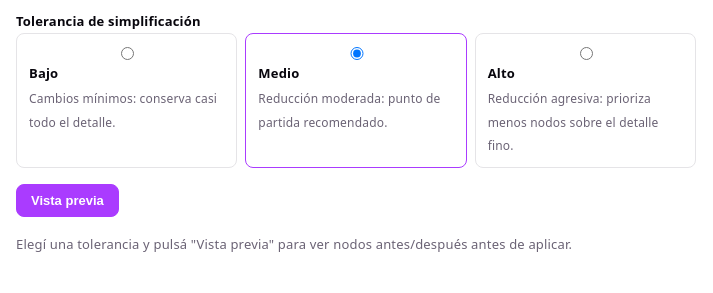
SimplifyPanel — errores controlados › un error controlado de la Web API se muestra sin romper el panel
The width and height of the screenshot is (713, 293).
Click the button "Vista previa" at (67, 200), box [16,184,119,217]
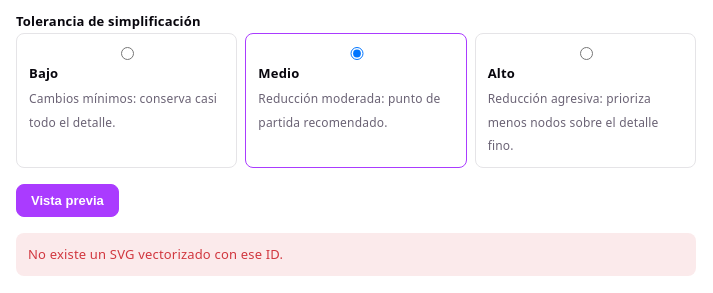
expect the message reads "No existe un SVG vectorizado con ese ID.": met, box [28,245,283,263]
